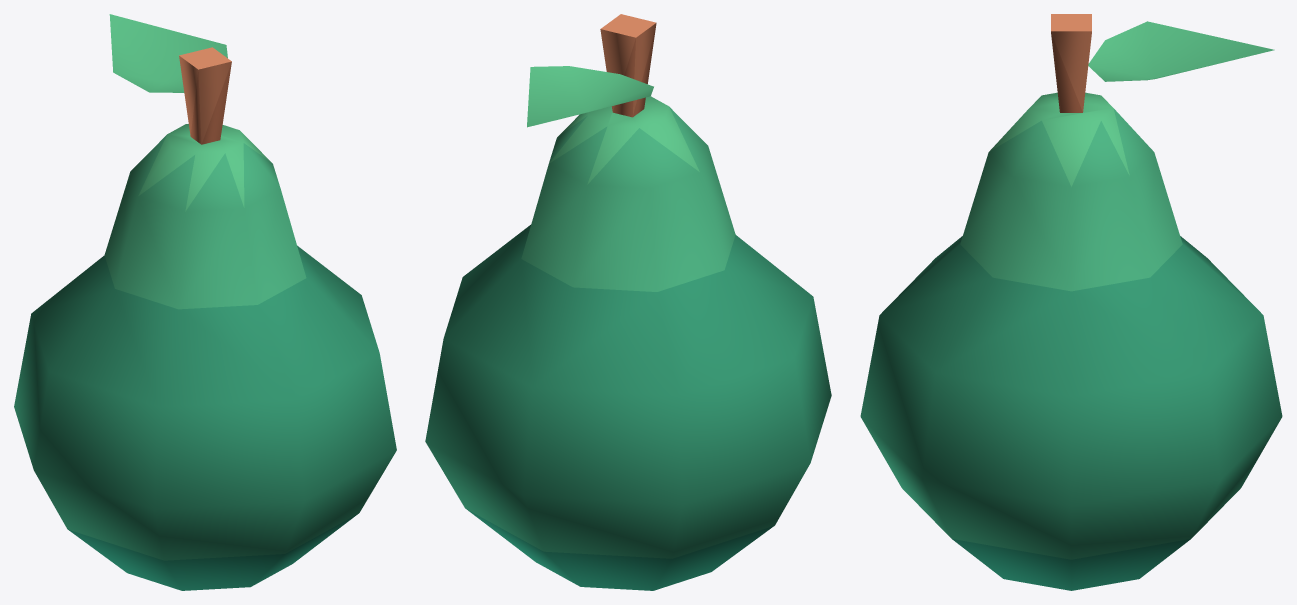
File: pera.glb
3 views of the same model, side by side, from view 1: azimuth 30°, elevation 25°; view 2: azimuth 150°, elevation 25°; view 3: azimuth 270°, elevation 25° (orthographic). The views are drawn at different scales.
Visible parts, largest first — view 1: pear; view 2: pear; view 3: pear.
Boxes of the visible parts, x1,y1,x2,y2 form: pear: [14, 14, 396, 590]; pear: [425, 14, 831, 590]; pear: [860, 14, 1282, 590].
Bounding box in the file's own units: 0.1963 × 0.2708 × 0.1963.
